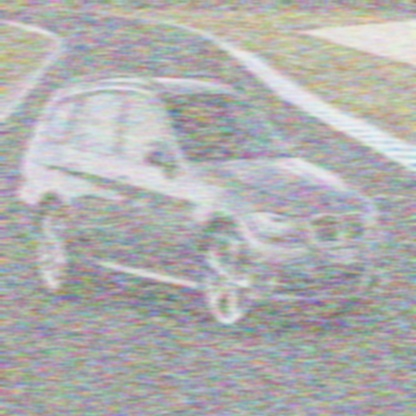Vehicle: (16, 69, 388, 339)
